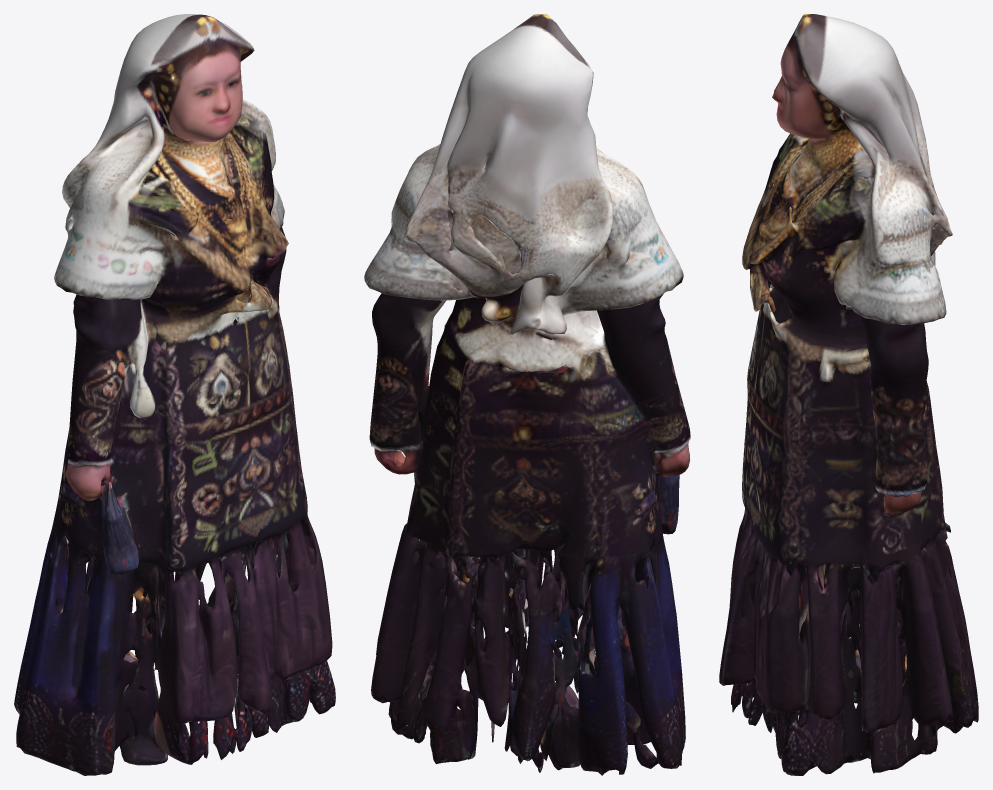
File: adapter.glb
3 views of the same model, side by side, from view 1: azimuth 30°, elevation 25°; view 2: azimuth 150°, elevation 25°; view 3: azimuth 270°, elevation 25° (orthographic).
Visible parts, largest first — view 1: geometry_0; view 2: geometry_0; view 3: geometry_0.
Part boxes in pixels (left/top/right/bottom): geometry_0: left=14, top=14, right=335, bottom=775; geometry_0: left=364, top=14, right=690, bottom=775; geometry_0: left=719, top=14, right=978, bottom=775.
Bounding box in the file's own units: 0.7976 × 1.87 × 0.6085.
1 material, 1 textured.
